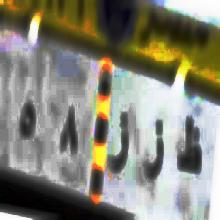5: (17, 90, 39, 157)
8: (58, 101, 80, 170)
Thaa: (176, 108, 204, 188)
zay: (144, 109, 166, 195), (110, 103, 132, 185)
